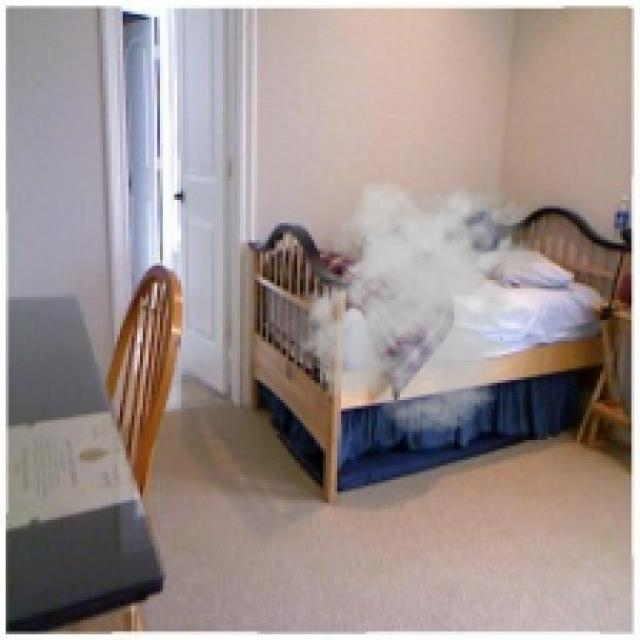Smoke: (297, 172, 546, 434)
